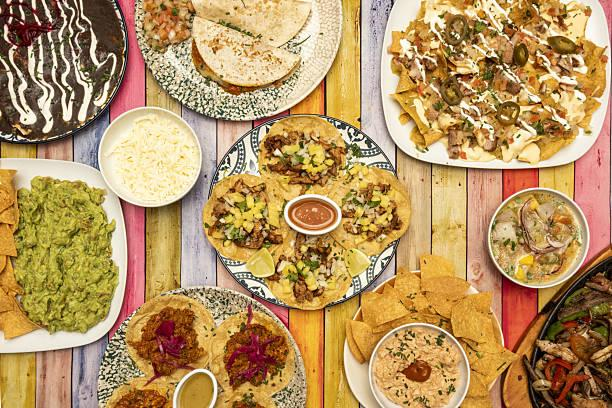Braised Crucian Carp: (381, 2, 605, 171), (206, 114, 393, 310), (100, 284, 305, 406), (137, 0, 340, 123), (0, 157, 126, 353), (342, 273, 500, 404), (2, 3, 128, 144), (504, 244, 610, 406), (486, 187, 588, 289)
